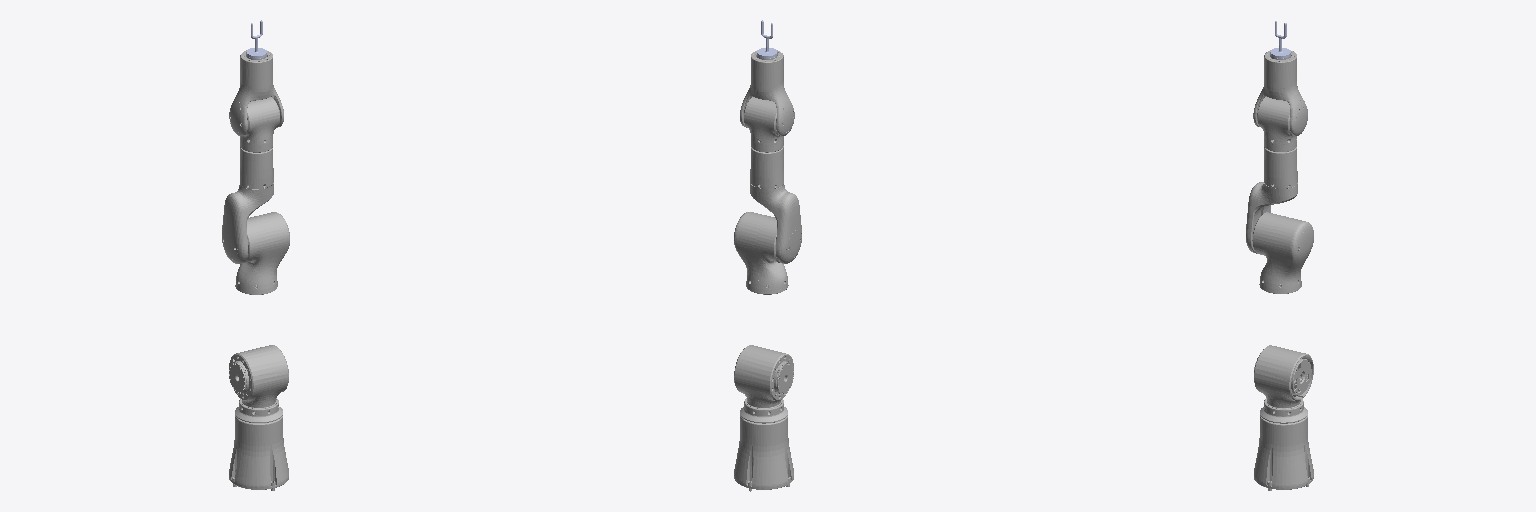
robot.urdf — armv7:
<?xml version="1.0" encoding="utf-8"?>
<!-- This URDF was automatically created by SolidWorks to URDF Exporter! Originally created by Stephen Brawner (brawner@gmail.com) 
     Commit Version: 1.6.0-4-g7f85cfe  Build Version: 1.6.7995.38578
     For more information, please see http://wiki.ros.org/sw_urdf_exporter -->
<robot
  name="armv7">
  <link
    name="base_link">
    <inertial>
      <origin
        xyz="4.4852E-05 3.6963E-05 0.071725"
        rpy="0 0 0" />
      <mass
        value="1.5342" />
      <inertia
        ixx="0.0022302"
        ixy="2.943E-07"
        ixz="2.745E-06"
        iyy="0.002233"
        iyz="2.1247E-06"
        izz="0.0019111" />
    </inertial>
    <visual>
      <origin
        xyz="0 0 0"
        rpy="0 0 0" />
      <geometry>
        <mesh
          filename="package://armv7/meshes/base_link.STL" />
      </geometry>
      <material
        name="">
        <color
          rgba="0.75294 0.75294 0.75294 1" />
      </material>
    </visual>
    <collision>
      <origin
        xyz="0 0 0"
        rpy="0 0 0" />
      <geometry>
        <mesh
          filename="package://armv7/meshes/base_link.STL" />
      </geometry>
    </collision>
  </link>
  <link
    name="link1">
    <inertial>
      <origin
        xyz="-0.0043321 4.5056E-05 0.19994"
        rpy="0 0 0" />
      <mass
        value="1.2668" />
      <inertia
        ixx="0.001245"
        ixy="-2.151E-06"
        ixz="2.7137E-06"
        iyy="0.0013052"
        iyz="2.9012E-07"
        izz="0.0012486" />
    </inertial>
    <visual>
      <origin
        xyz="0 0 0"
        rpy="0 0 0" />
      <geometry>
        <mesh
          filename="package://armv7/meshes/link1.STL" />
      </geometry>
      <material
        name="">
        <color
          rgba="0.75294 0.75294 0.75294 1" />
      </material>
    </visual>
    <collision>
      <origin
        xyz="0 0 0"
        rpy="0 0 0" />
      <geometry>
        <mesh
          filename="package://armv7/meshes/link1.STL" />
      </geometry>
    </collision>
  </link>
  <joint
    name="joint1"
    type="revolute">
    <origin
      xyz="0 0 0"
      rpy="0 0 0" />
    <parent
      link="base_link" />
    <child
      link="link1" />
    <axis
      xyz="0 0 1" />
    <limit
      lower="-3.14"
      upper="3.14"
      effort="38"
      velocity="4.1887" />
    <dynamics damping="1.0" friction="0.1"/>
</joint>
  <link
    name="link2">
    <inertial>
      <origin
        xyz="-1.46179257605251E-05 -0.101895250185516 0.000108730360751453"
        rpy="0 0 0" />
      <mass
        value="1.40049945991682" />
      <inertia
        ixx="0.00277857033219757"
        ixy="6.65339079336443E-07"
        ixz="-1.23807735976067E-06"
        iyy="0.000938931685575044"
        iyz="-6.05226831848143E-06"
        izz="0.00302956290007066" />
    </inertial>
    <visual>
      <origin
        xyz="0 0 0"
        rpy="0 0 0" />
      <geometry>
        <mesh
          filename="package://armv7/meshes/link2.STL" />
      </geometry>
      <material
        name="">
        <color
          rgba="0.752941176470588 0.752941176470588 0.752941176470588 1" />
      </material>
    </visual>
    <collision>
      <origin
        xyz="0 0 0"
        rpy="0 0 0" />
      <geometry>
        <mesh
          filename="package://armv7/meshes/link2.STL" />
      </geometry>
    </collision>
  </link>
  <joint
    name="joint2"
    type="revolute">
    <origin
      xyz="0 0 0.209"
      rpy="-1.5708 0 1.5708" />
    <parent
      link="link1" />
    <child
      link="link2" />
    <axis
      xyz="0 0 1" />
    <limit
      lower="-1.57"
      upper="1.57"
      effort="38"
      velocity="4.1887" />
    <dynamics damping="1.0" friction="0.1"/>
</joint>
  <link
    name="link3">
    <inertial>
      <origin
        xyz="-0.00404915390467001 -0.00148725683866971 0.0856399032270122"
        rpy="0 0 0" />
      <mass
        value="1.22697872286913" />
      <inertia
        ixx="0.00124805893195714"
        ixy="-1.72578423777798E-06"
        ixz="-1.09317211582289E-05"
        iyy="0.00122919016275901"
        iyz="8.10662836218173E-07"
        izz="0.000976388274733609" />
    </inertial>
    <visual>
      <origin
        xyz="0 0 0"
        rpy="0 0 0" />
      <geometry>
        <mesh
          filename="package://armv7/meshes/link3.STL" />
      </geometry>
      <material
        name="">
        <color
          rgba="0.752941176470588 0.752941176470588 0.752941176470588 1" />
      </material>
    </visual>
    <collision>
      <origin
        xyz="0 0 0"
        rpy="0 0 0" />
      <geometry>
        <mesh
          filename="package://armv7/meshes/link3.STL" />
      </geometry>
    </collision>
  </link>
  <joint
    name="joint3"
    type="revolute">
    <origin
      xyz="0 -0.17201 0"
      rpy="1.5708 1.5708 0" />
    <parent
      link="link2" />
    <child
      link="link3" />
    <axis
      xyz="0 0 1" />
    <limit
      lower="-3.14"
      upper="3.14"
      effort="14"
      velocity="3.1415" />
    <dynamics damping="1.0" friction="0.1"/>
</joint>
  <link
    name="link4">
    <inertial>
      <origin
        xyz="3.72209589210349E-05 -0.10041718030709 -0.0280249605161877"
        rpy="0 0 0" />
      <mass
        value="0.968850385291902" />
      <inertia
        ixx="0.00122274622479383"
        ixy="-8.75694720990148E-07"
        ixz="-4.92293809920124E-08"
        iyy="0.000644077465205461"
        iyz="-0.00026305767194024"
        izz="0.00111589881926999" />
    </inertial>
    <visual>
      <origin
        xyz="0 0 0"
        rpy="0 0 0" />
      <geometry>
        <mesh
          filename="package://armv7/meshes/link4.STL" />
      </geometry>
      <material
        name="">
        <color
          rgba="0.752941176470588 0.752941176470588 0.752941176470588 1" />
      </material>
    </visual>
    <collision>
      <origin
        xyz="0 0 0"
        rpy="0 0 0" />
      <geometry>
        <mesh
          filename="package://armv7/meshes/link4.STL" />
      </geometry>
    </collision>
  </link>
  <joint
    name="joint4"
    type="revolute">
    <origin
      xyz="-0.0506339927297103 -0.0015294523067844 0.0992348804179653"
      rpy="-1.57079632679461 0 1.57079632679492" />
    <parent
      link="link3" />
    <child
      link="link4" />
    <axis
      xyz="0 0 1" />
    <limit
      lower="-1.57"
      upper="1.57"
      effort="14"
      velocity="3.1415" />
    <dynamics damping="1.0" friction="0.1"/>
</joint>
  <link
    name="link5">
    <inertial>
      <origin
        xyz="0.00355403882713478 4.77844812177019E-05 0.0498371661924434"
        rpy="0 0 0" />
      <mass
        value="0.523463515154146" />
      <inertia
        ixx="0.000259383969252199"
        ixy="6.0295841923504E-07"
        ixz="-1.41231214293632E-06"
        iyy="0.000290213447654579"
        iyz="-2.67851447504871E-07"
        izz="0.000300911359305597" />
    </inertial>
    <visual>
      <origin
        xyz="0 0 0"
        rpy="0 0 0" />
      <geometry>
        <mesh
          filename="package://armv7/meshes/link5.STL" />
      </geometry>
      <material
        name="">
        <color
          rgba="0.752941176470588 0.752941176470588 0.752941176470588 1" />
      </material>
    </visual>
    <collision>
      <origin
        xyz="0 0 0"
        rpy="0 0 0" />
      <geometry>
        <mesh
          filename="package://armv7/meshes/link5.STL" />
      </geometry>
    </collision>
  </link>
  <joint
    name="joint5"
    type="revolute">
    <origin
      xyz="0 -0.185 -0.044971"
      rpy="1.5708 1.5708 0" />
    <parent
      link="link4" />
    <child
      link="link5" />
    <axis
      xyz="0 0 1" />
    <limit
      lower="-3.14"
      upper="3.14"
      effort="6.8"
      velocity="3.1415" />
    <dynamics damping="1.0" friction="0.1"/>
</joint>
  <link
    name="link6">
    <inertial>
      <origin
        xyz="-2.20201392121615E-06 0.0708588893529285 -0.0361866271730837"
        rpy="0 0 0" />
      <mass
        value="0.593580130238006" />
      <inertia
        ixx="0.000585694786802645"
        ixy="1.11127671378374E-08"
        ixz="-4.63214090021767E-08"
        iyy="0.000223846386471812"
        iyz="-1.81235631953882E-06"
        izz="0.00063468658285997" />
    </inertial>
    <visual>
      <origin
        xyz="0 0 0"
        rpy="0 0 0" />
      <geometry>
        <mesh
          filename="package://armv7/meshes/link6.STL" />
      </geometry>
      <material
        name="">
        <color
          rgba="0.752941176470588 0.752941176470588 0.752941176470588 1" />
      </material>
    </visual>
    <collision>
      <origin
        xyz="0 0 0"
        rpy="0 0 0" />
      <geometry>
        <mesh
          filename="package://armv7/meshes/link6.STL" />
      </geometry>
    </collision>
  </link>
  <joint
    name="joint6"
    type="revolute">
    <origin
      xyz="0.036 0 0.059"
      rpy="1.5708 0 1.5708" />
    <parent
      link="link5" />
    <child
      link="link6" />s
    <axis
      xyz="0 0 1" />
    <limit
      lower="-1.57"
      upper="1.57"
      effort="6.8"
      velocity="3.1415" />
    <dynamics damping="1.0" friction="0.1"/>
</joint>
  <link
    name="link7">
    <inertial>
      <origin
        xyz="6.207707958783E-15 -8.50044724279991E-11 -0.0527293345834396"
        rpy="0 0 0" />
      <mass
        value="0.00755513616120157" />
      <inertia
        ixx="2.95514573258449E-06"
        ixy="2.75535627085956E-15"
        ixz="-8.5765669214282E-19"
        iyy="3.07468678950722E-06"
        iyz="1.36337449751387E-14"
        izz="1.09669976010484E-06" />
    </inertial>
    <visual>
      <origin
        xyz="0 0 0"
        rpy="0 0 0" />
      <geometry>
        <mesh
          filename="package://armv7/meshes/link7.STL" />
      </geometry>
      <material
        name="">
        <color
          rgba="0.792156862745098 0.819607843137255 0.933333333333333 1" />
      </material>
    </visual>
    <collision>
      <origin
        xyz="0 0 0"
        rpy="0 0 0" />
      <geometry>
        <mesh
          filename="package://armv7/meshes/link7.STL" />
      </geometry>
    </collision>
  </link>
  <joint
    name="joint7"
    type="revolute">
    <origin
      xyz="0 0.188 -0.036001"
      rpy="-1.5708 -1.5708 0" />
    <parent
      link="link6" />
    <child
      link="link7" />
    <axis
      xyz="0 0 1" />
    <limit
      lower="-3.14"
      upper="3.14"
      effort="6.8"
      velocity="3.1415" />
    <dynamics damping="1.0" friction="0.1"/>
</joint>
</robot>

--- Facts derived from the render (not from the file) ---
The picture shows the robot from 3 angles, left to right: view 1: azimuth 30°, elevation 25°; view 2: azimuth 150°, elevation 25°; view 3: azimuth 330°, elevation 25°; orthographic projection.
Robot: armv7 — 8 links, 7 joints (7 revolute); root link base_link; default pose: every joint at zero.
Links seen in each view (by area): view 1: link1, base_link, link4, link3, link6, link5; view 2: link1, base_link, link4, link3, link6, link5; view 3: link3, link1, base_link, link4, link6, link5.
Link boxes in pixels (x1,y1,x2,y2): link1: (229, 345, 288, 422); base_link: (229, 415, 288, 490); link4: (222, 146, 273, 263); link3: (235, 212, 289, 294); link6: (229, 50, 283, 135); link5: (240, 97, 279, 152); link1: (734, 345, 793, 423); base_link: (734, 415, 793, 491); link4: (750, 146, 801, 263); link3: (734, 212, 788, 294); link6: (740, 50, 794, 135); link5: (744, 97, 783, 152); link3: (1252, 212, 1313, 293); link1: (1254, 345, 1313, 423); base_link: (1254, 415, 1313, 490); link4: (1246, 146, 1297, 253); link6: (1253, 50, 1307, 135); link5: (1257, 97, 1296, 151).
Size in the robot's own frame: 0.1194 by 0.11 by 0.9192 metres.
7 mesh visuals loaded from 8 distinct referenced files (7 binary STL); not drawn: 1 (reference not matched to a file when rendering).
